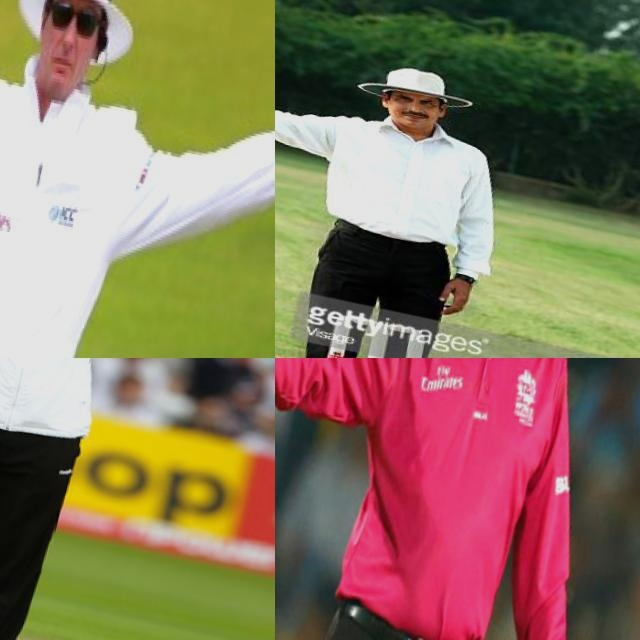No_Ball: (275, 358, 640, 640), (275, 1, 527, 358)
Six: (0, 358, 274, 640)
Wide: (0, 0, 275, 358)
